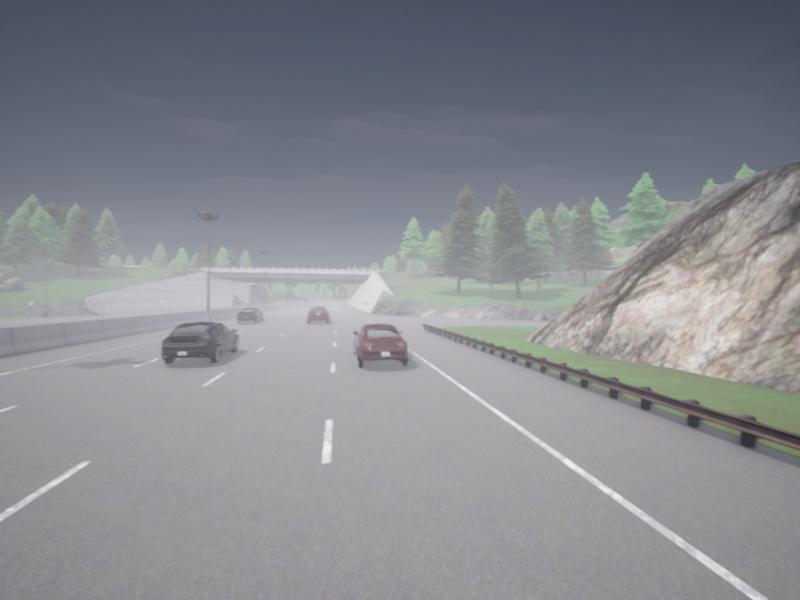vehicle: (161, 321, 238, 362), (353, 323, 408, 365), (307, 305, 329, 323), (237, 308, 263, 322)
